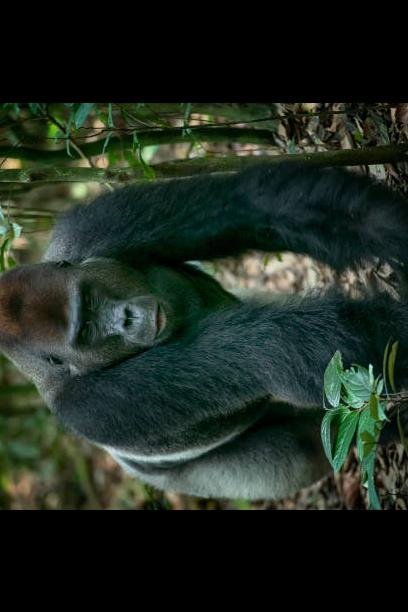gorille_Autres: (0, 126, 408, 497)
